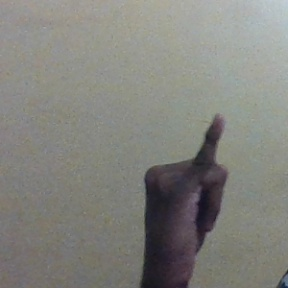I: (140, 111, 235, 265)
